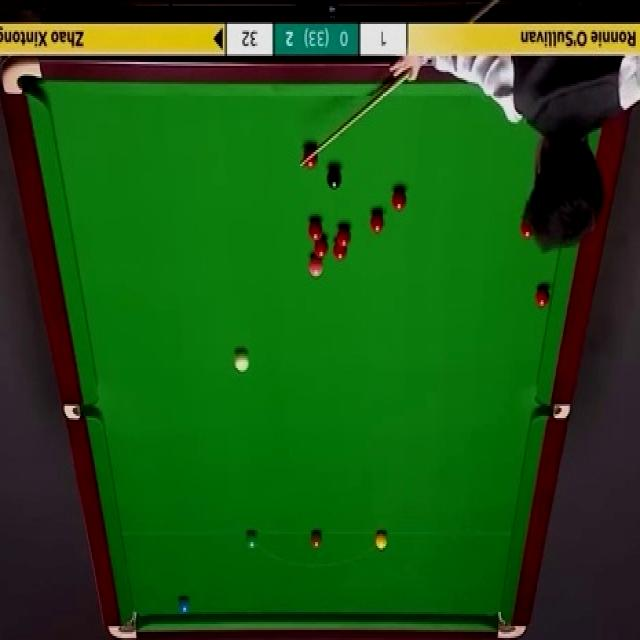black-ball: (325, 163, 342, 192)
blue-ball: (176, 593, 192, 618)
brown-ball: (309, 529, 323, 549)
green-ball: (244, 528, 258, 550)
pink-ball: (308, 255, 326, 279)
red-ball: (520, 213, 538, 243), (390, 184, 408, 211), (300, 144, 318, 168), (369, 211, 385, 235), (336, 224, 352, 247), (536, 285, 551, 309), (332, 240, 349, 261), (308, 220, 323, 242), (313, 238, 329, 258)
white-ball: (234, 347, 252, 377)
yellow-ball: (374, 530, 388, 550)
